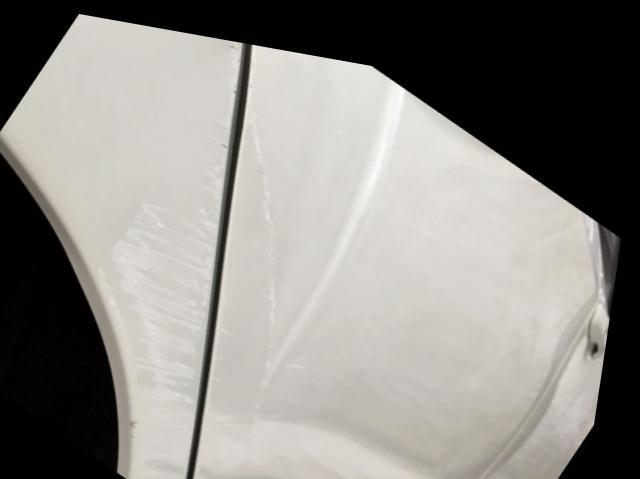rub: (103, 126, 234, 400)
scratch: (248, 104, 288, 390)
